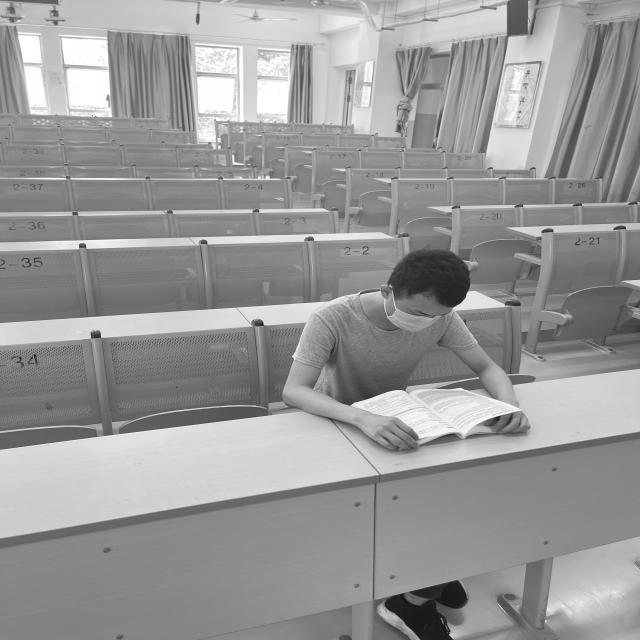study: (283, 251, 530, 448)
